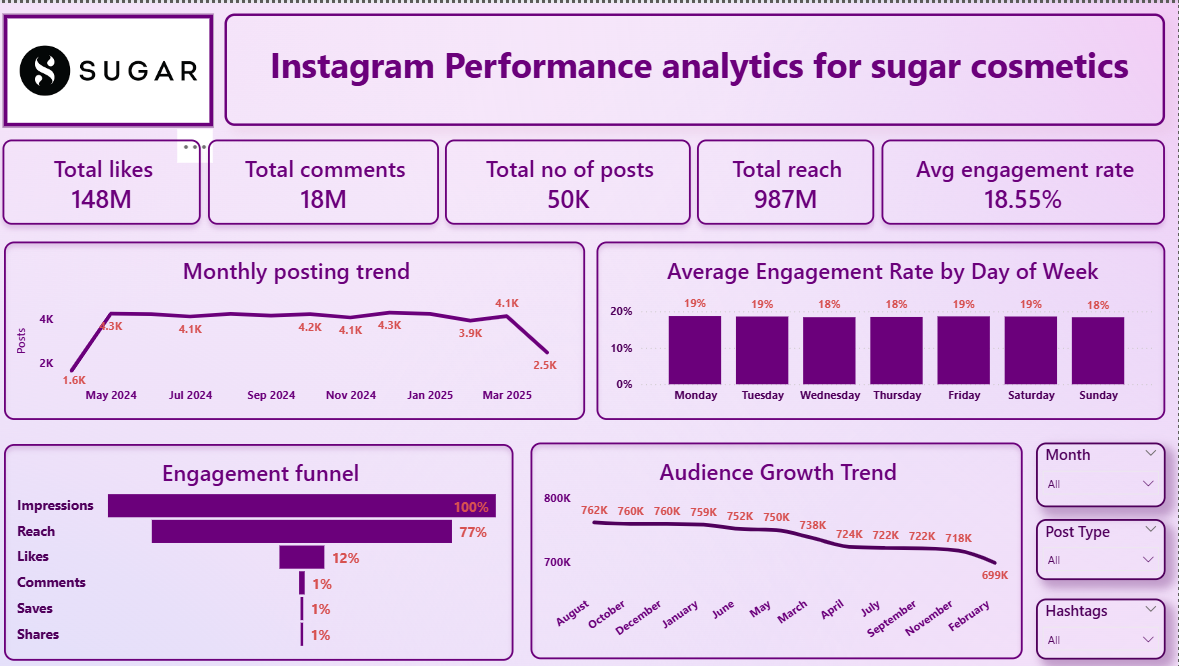

The dashboard page shown, as its layout file describes it:
{"tool":"powerbi","page":{"name":"Instagram Performance Overview","canvas":[1280,720],"ordinal":0},"visuals":[{"type":"image","box":[11.3,11.3,228.3,123.1],"z":0},{"type":"textbox","box":[251,11.3,1015.3,121.4],"z":1000},{"type":"card","title":"Total likes","fields":{"Values":["Calendar.Total Likes"]},"box":[11.3,147.3,213.7,92.3],"z":2000},{"type":"card","title":"Total comments","fields":{"Values":["Calendar.Total comments"]},"box":[233.2,147.3,249.4,92.3],"z":3000},{"type":"card","title":"Total no of posts","fields":{"Values":["Calendar.Total Posts"]},"box":[489,147.3,265.6,92.3],"z":4000},{"type":"card","title":"Total reach","fields":{"Values":["Calendar.Total reach"]},"box":[761,147.3,191.1,92.3],"z":5000},{"type":"card","title":"Avg engagement rate","fields":{"Values":["Calendar.Average engagement rate"]},"box":[960.2,147.3,306,92.3],"z":6000},{"type":"lineChart","title":"Monthly posting trend","fields":{"Y":["Sum(monthly_posts.posts)"],"Category":["monthly_posts.month"]},"box":[13.2,257,627.4,192.8],"z":7000},{"type":"funnel","title":"Engagement funnel","fields":{"Category":["DimStage.stage"],"Y":["engagement_funnel.% of Impressions (TREATAS)"]},"box":[13.2,476.2,549.9,234.3],"z":8000},{"type":"clusteredColumnChart","title":"Average Engagement Rate by Day of Week","fields":{"Category":["sugar_cosmetics_instagram_data.WeekdayName"],"Y":["sugar_cosmetics_instagram_data.Engagement Rate"]},"box":[652,257,614.2,192.8],"z":9000},{"type":"lineChart","title":"Audience Growth Trend","fields":{"Category":["sugar_cosmetics_instagram_data.Month "],"Y":["sugar_cosmetics_instagram_data.Total Audience"]},"box":[582.1,474.3,531,234.3],"z":10000},{"type":"slicer","fields":{"Values":["sugar_cosmetics_instagram_data.Month "]},"box":[1126.3,474.3,139.8,69.9],"z":11000},{"type":"slicer","fields":{"Values":["sugar_cosmetics_instagram_data.Post Type"]},"box":[1126.3,557.5,139.8,66.1],"z":12000},{"type":"slicer","fields":{"Values":["sugar_cosmetics_instagram_data.Hashtags"]},"box":[1126.3,642.5,139.8,66.1],"z":13000}]}

Visuals, with their boxes in screenshot pixels (x1, y1, x2, y2), scaled from the page's 1280x720 canvas onto the 1179x666 screenshot:
image: x1=10, y1=10, x2=221, y2=124
textbox: x1=231, y1=10, x2=1166, y2=123
"Total likes" card: x1=10, y1=136, x2=207, y2=222
"Total comments" card: x1=215, y1=136, x2=445, y2=222
"Total no of posts" card: x1=450, y1=136, x2=695, y2=222
"Total reach" card: x1=701, y1=136, x2=877, y2=222
"Avg engagement rate" card: x1=884, y1=136, x2=1166, y2=222
"Monthly posting trend" lineChart: x1=12, y1=238, x2=590, y2=416
"Engagement funnel" funnel: x1=12, y1=440, x2=519, y2=657
"Average Engagement Rate by Day of Week" clusteredColumnChart: x1=601, y1=238, x2=1166, y2=416
"Audience Growth Trend" lineChart: x1=536, y1=439, x2=1025, y2=655
slicer - sugar_cosmetics_instagram_data.Month : x1=1037, y1=439, x2=1166, y2=503
slicer - sugar_cosmetics_instagram_data.Post Type: x1=1037, y1=516, x2=1166, y2=577
slicer - sugar_cosmetics_instagram_data.Hashtags: x1=1037, y1=594, x2=1166, y2=655
